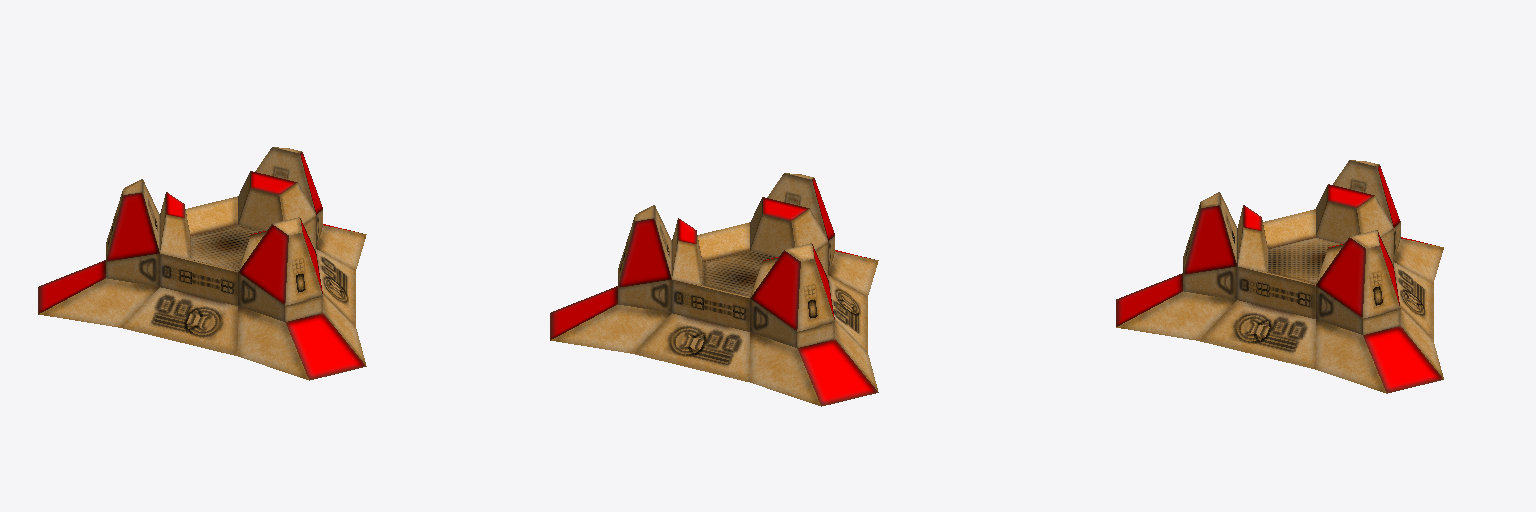
3 renders of one model, left to right at view 1: azimuth 30°, elevation 25°; view 2: azimuth 150°, elevation 25°; view 3: azimuth 270°, elevation 25°, orthographic.
Parts seen in each view (by area): view 1: cylinder4_sep5; view 2: cylinder4_sep5; view 3: cylinder4_sep5.
Boxes of the visible parts, box(x1,y1,x2,y2) form: cylinder4_sep5: box(38, 147, 366, 380); cylinder4_sep5: box(550, 173, 878, 406); cylinder4_sep5: box(1116, 160, 1443, 393).
Bounding box in the file's own units: 4.2 × 1.41 × 3.64.
1 materials, 1 textured.